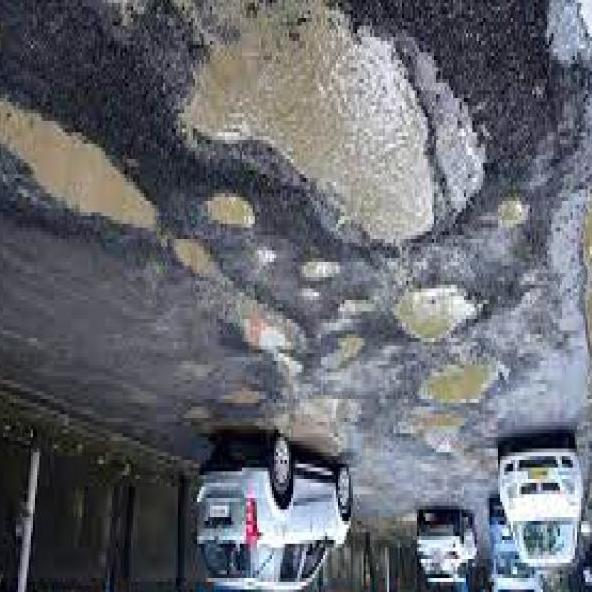pothole: (179, 0, 488, 251), (0, 93, 162, 233), (207, 389, 370, 459), (393, 280, 487, 345), (226, 292, 313, 355), (422, 352, 510, 405), (170, 234, 235, 287), (391, 406, 462, 451), (580, 171, 592, 402), (200, 191, 256, 229), (318, 335, 365, 373), (493, 192, 528, 224), (296, 255, 336, 282), (224, 386, 271, 407), (330, 297, 373, 317), (182, 401, 206, 419)
